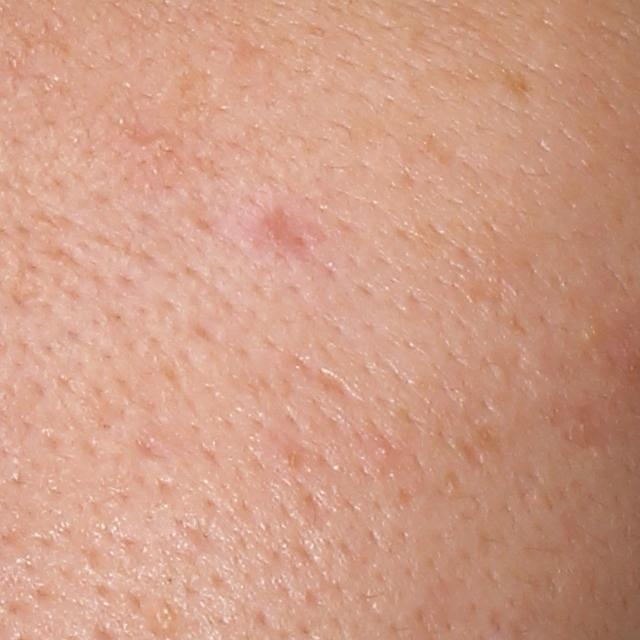comedo: (148, 597, 178, 633)
melasma: (500, 67, 530, 104)
